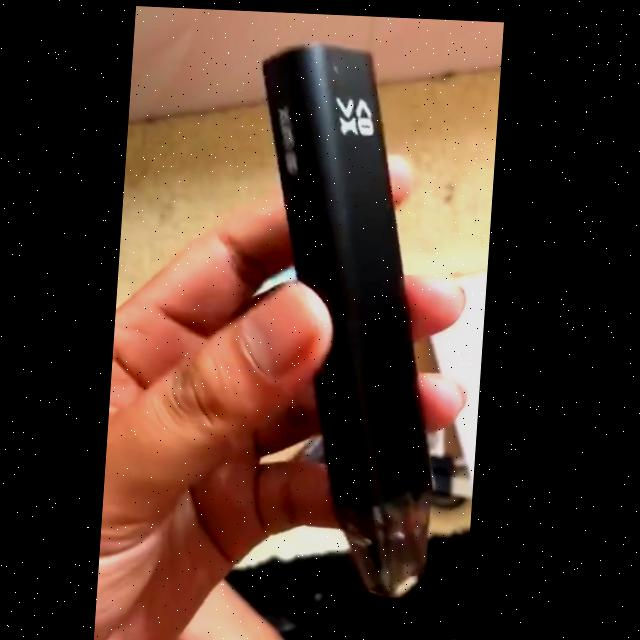vape: (236, 36, 465, 591)
